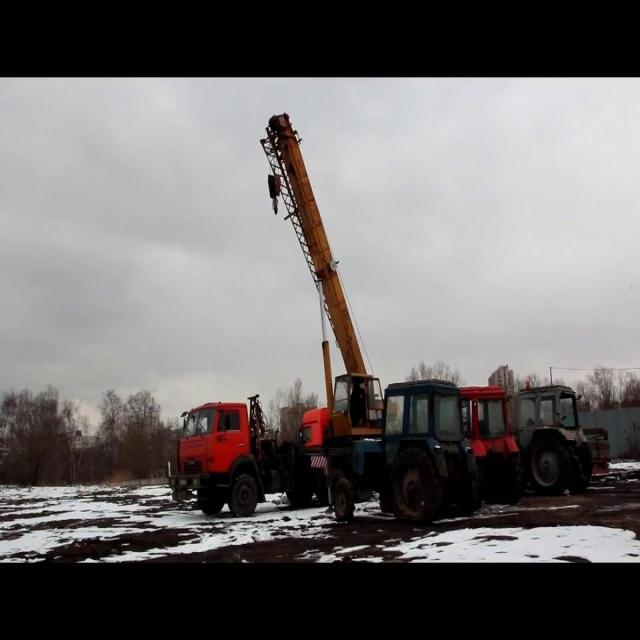crane: (168, 112, 399, 518)
